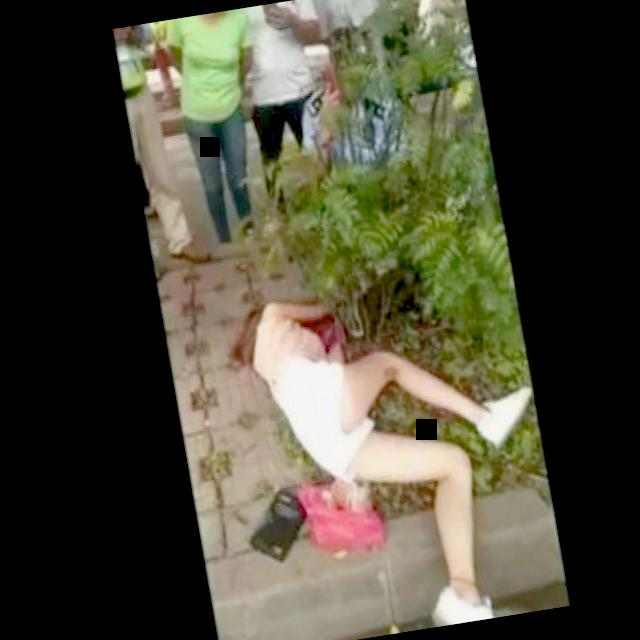Fall-Detected: (210, 241, 572, 640)
